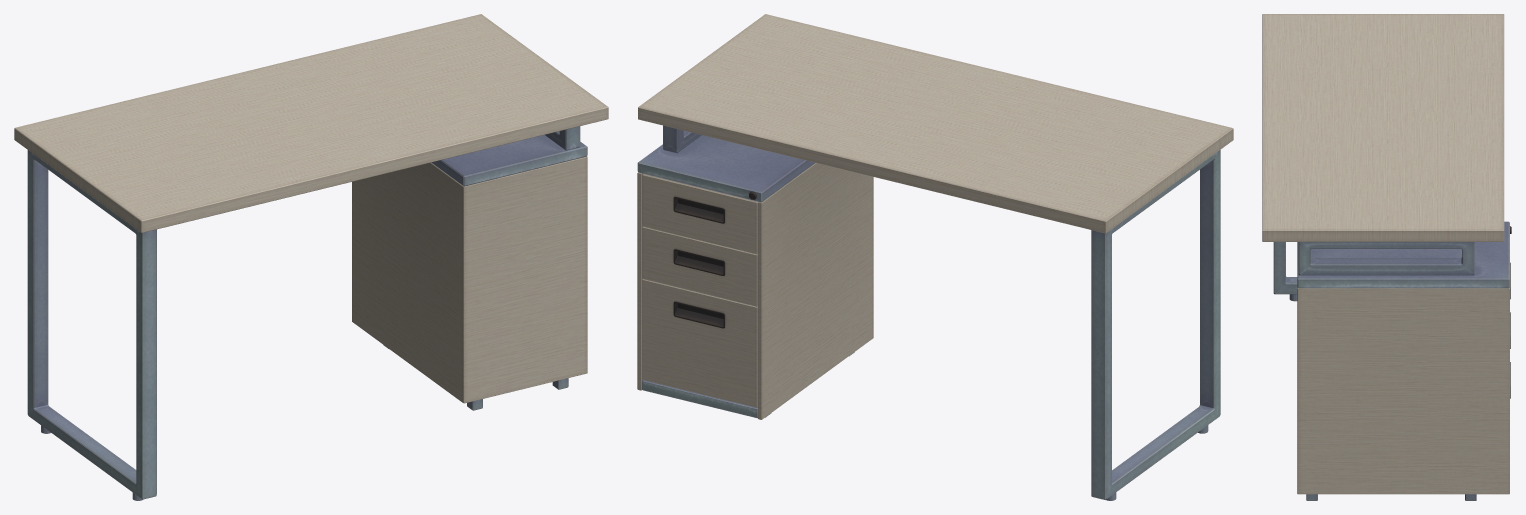
Rendered from ComputerTable.fbx.
The picture shows the model from 3 angles, left to right: view 1: azimuth 30°, elevation 25°; view 2: azimuth 150°, elevation 25°; view 3: azimuth 270°, elevation 25°; orthographic projection. The views are drawn at different scales.
Visible parts, largest first — view 1: ComputerTable; view 2: ComputerTable; view 3: ComputerTable.
Boxes of the visible parts, x1=… form: ComputerTable: x1=14, y1=14, x2=608, y2=500; ComputerTable: x1=637, y1=14, x2=1233, y2=500; ComputerTable: x1=1262, y1=14, x2=1511, y2=500.
Bounding box in the file's own units: 143 × 85.75 × 69.49.
